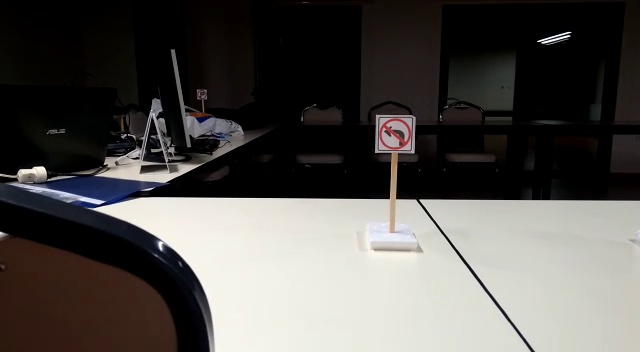sola_donulmez: (376, 111, 416, 153)
